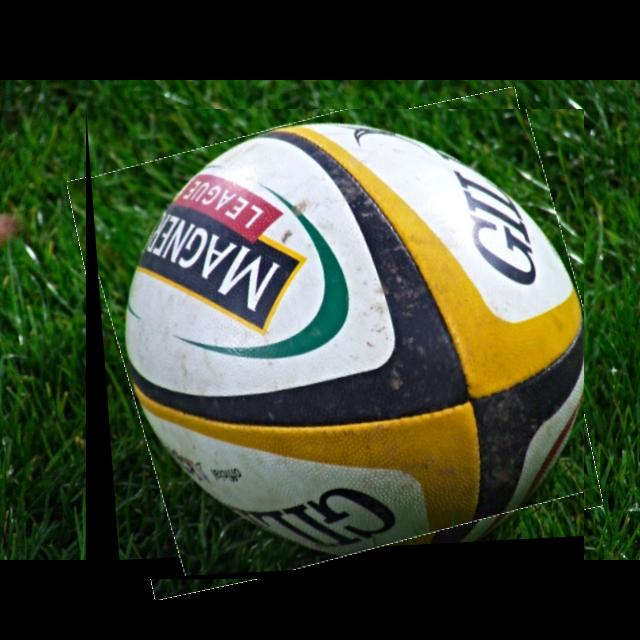Football: (86, 109, 584, 579)
